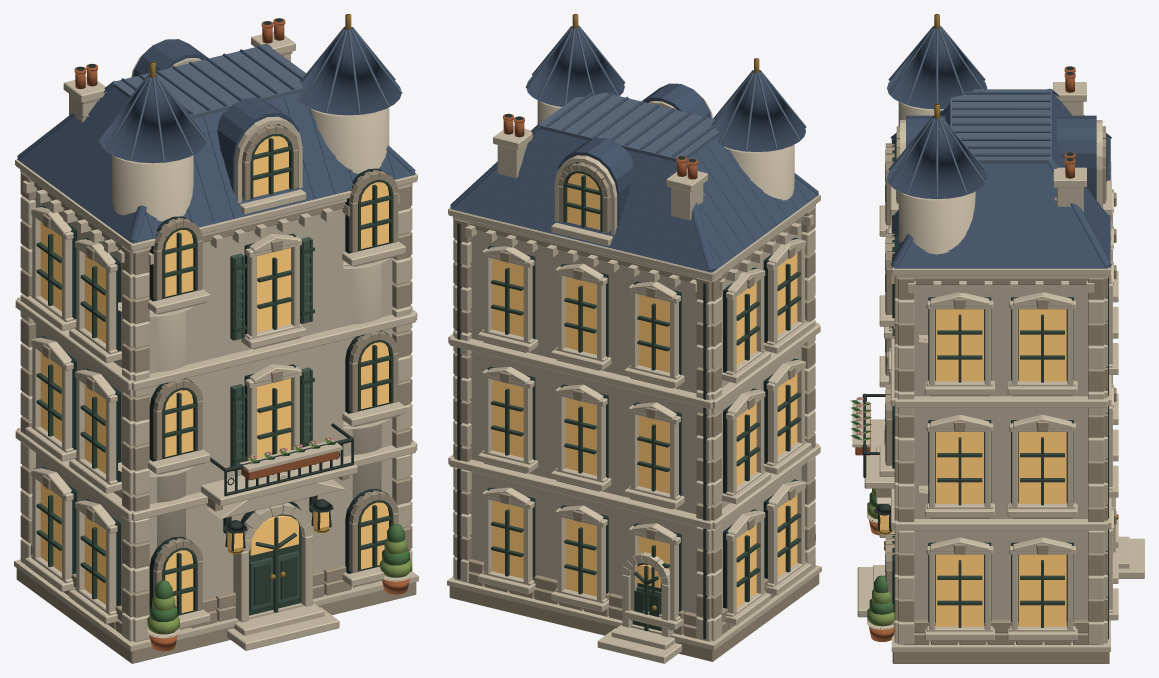
The picture shows the model from 3 angles, left to right: view 1: azimuth 30°, elevation 25°; view 2: azimuth 150°, elevation 25°; view 3: azimuth 270°, elevation 25°; orthographic projection. The views are drawn at different scales.
Visible parts, largest first — view 1: classic_villa_3_geometry, classic_villa_3_geometry ceramic; view 2: classic_villa_3_geometry, classic_villa_3_geometry ceramic; view 3: classic_villa_3_geometry, classic_villa_3_geometry ceramic.
Boxes of the visible parts, bbox=[...] form: classic_villa_3_geometry: bbox=[14, 14, 418, 663]; classic_villa_3_geometry ceramic: bbox=[17, 26, 415, 243]; classic_villa_3_geometry: bbox=[447, 14, 821, 663]; classic_villa_3_geometry ceramic: bbox=[450, 25, 818, 272]; classic_villa_3_geometry: bbox=[850, 14, 1144, 663]; classic_villa_3_geometry ceramic: bbox=[887, 26, 1111, 268].
Bounding box in the file's own units: 0.9707 × 1.76 × 0.8722.
